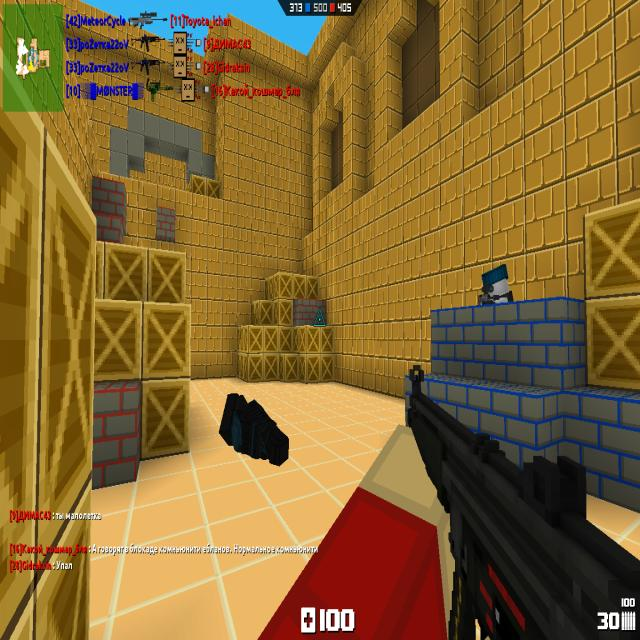enemy: (481, 263, 514, 303)
